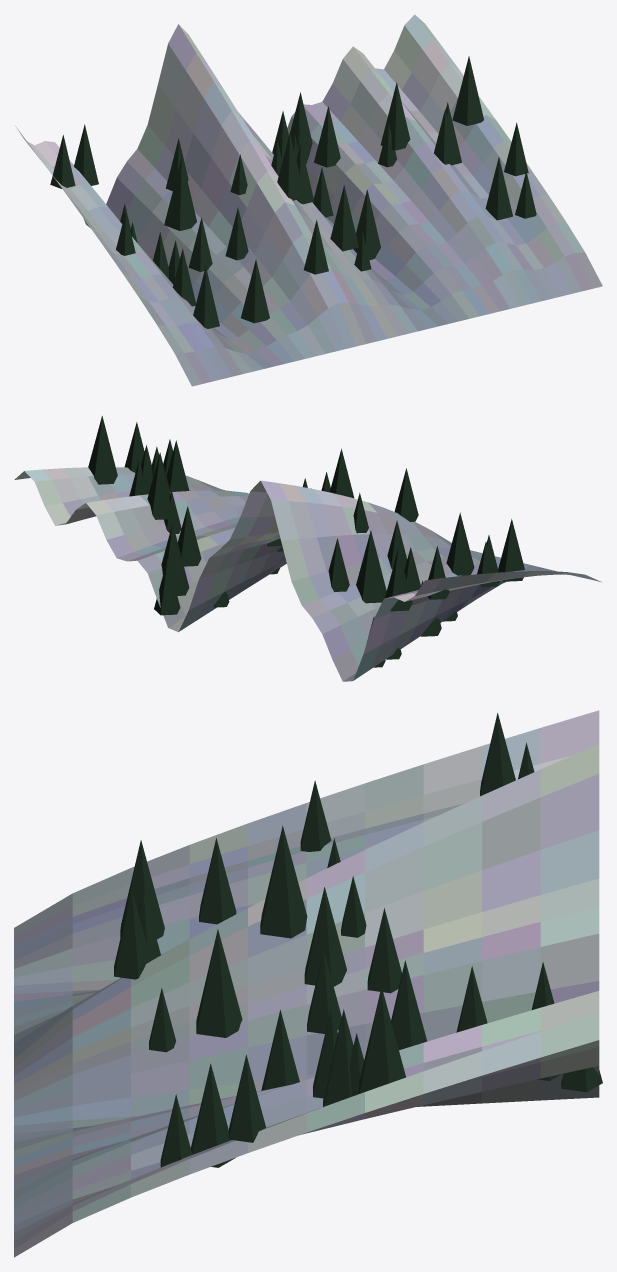
File: bg_snow_ridge_2_idle.glb
The picture shows the model from 3 angles, top to bottom: view 1: azimuth 30°, elevation 25°; view 2: azimuth 150°, elevation 25°; view 3: azimuth 270°, elevation 25°; orthographic projection. The views are drawn at different scales.
Parts seen in each view (by area): view 1: ridge.001; view 2: ridge.001; view 3: ridge.001.
Part boxes in pixels (x1,y1,x2,y2): ridge.001: (15, 14, 602, 386); ridge.001: (14, 416, 601, 681); ridge.001: (14, 710, 602, 1257).
Size of the model in its own units: 40 by 17.88 by 30.2.
